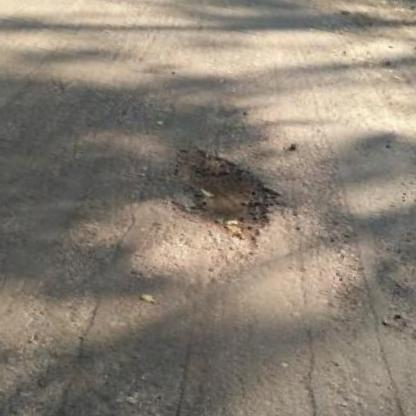pothole: (154, 139, 295, 256)
